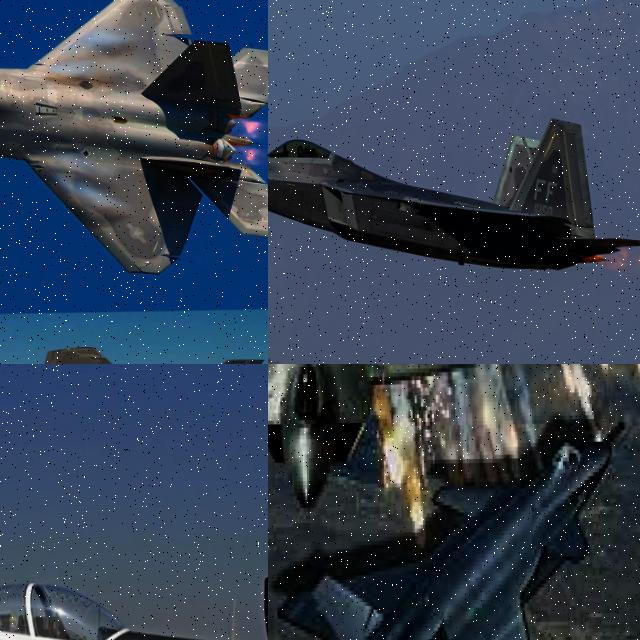F22: (269, 414, 633, 640), (0, 0, 268, 285), (268, 113, 640, 292), (268, 364, 508, 514)
KT-1: (0, 533, 268, 640)
